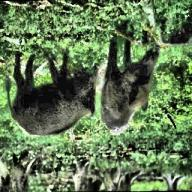boar: (6, 52, 100, 137), (99, 33, 161, 136)
